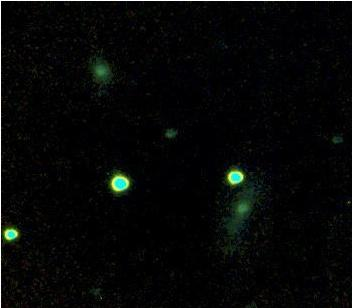star: (238, 176, 268, 206)
